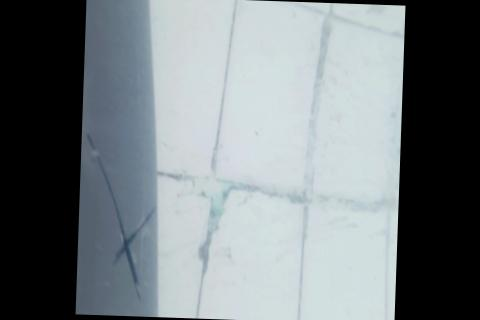keretakan: (77, 131, 157, 300)
